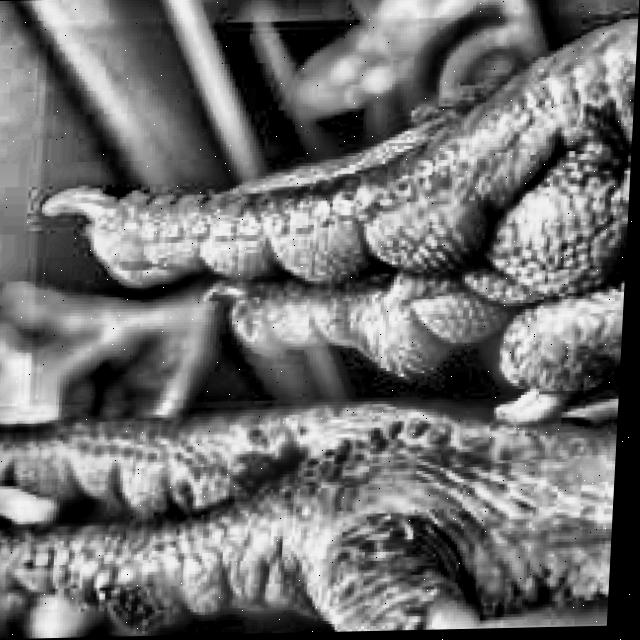Bumble foot: (32, 12, 639, 429), (0, 392, 624, 640)
